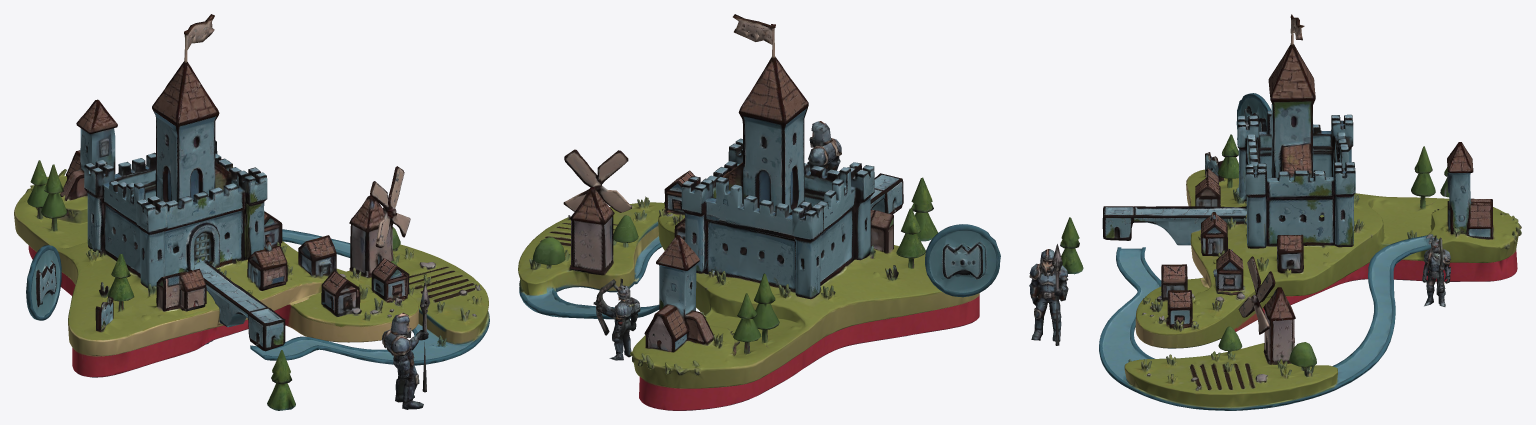
The model's file is Tstxletiktokkngdm.glb.
The picture shows the model from 3 angles, left to right: view 1: azimuth 30°, elevation 25°; view 2: azimuth 150°, elevation 25°; view 3: azimuth 270°, elevation 25°; orthographic projection. The views are drawn at different scales.
Visible parts, largest first — view 1: tripo_node_b60134a2-c3b2-4d33-a09a-37dd8d869544; view 2: tripo_node_b60134a2-c3b2-4d33-a09a-37dd8d869544; view 3: tripo_node_b60134a2-c3b2-4d33-a09a-37dd8d869544.
Part boxes in pixels (<box>): tripo_node_b60134a2-c3b2-4d33-a09a-37dd8d869544: <box>14,14,489,410</box>; tripo_node_b60134a2-c3b2-4d33-a09a-37dd8d869544: <box>518,14,1000,410</box>; tripo_node_b60134a2-c3b2-4d33-a09a-37dd8d869544: <box>1029,14,1521,410</box>.
Size of the model in its own units: 0.8995 by 0.594 by 0.9305.
Materials: 1 (1 with a texture image).
